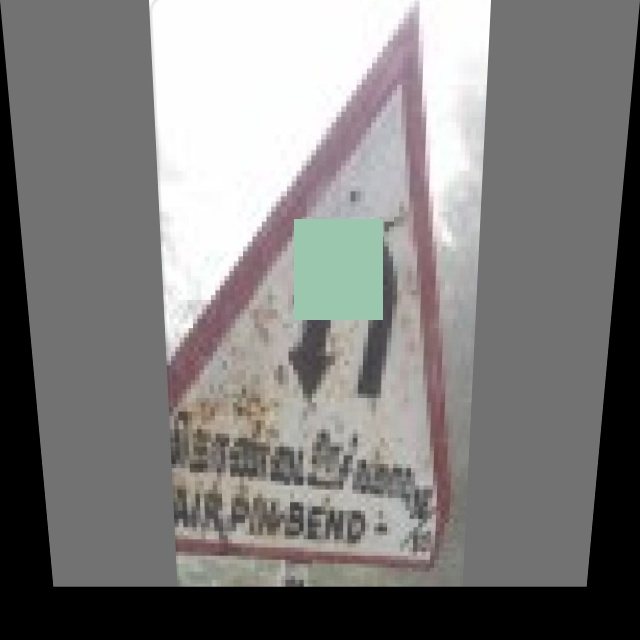Left_Hair_Pin_Bend: (253, 198, 441, 420)
